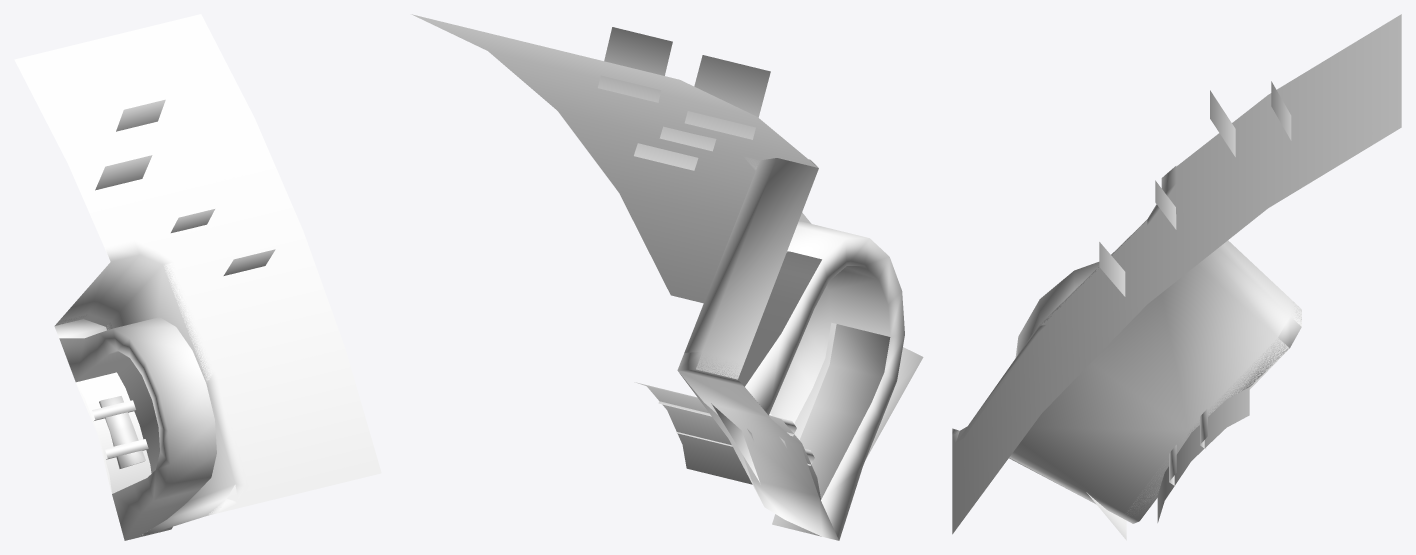
The model's file is grd_Ene_0.dae.
3 renders of one model, left to right at view 1: azimuth 30°, elevation 25°; view 2: azimuth 150°, elevation 25°; view 3: azimuth 270°, elevation 25°, orthographic. The views are drawn at different scales.
Parts seen in each view (by area): view 1: grd_Ene_0; view 2: grd_Ene_0; view 3: grd_Ene_0.
Part boxes in pixels (x1,y1,x2,y2): grd_Ene_0: (14,14,381,540); grd_Ene_0: (411,14,923,540); grd_Ene_0: (952,14,1401,540).
Size of the model in its own units: 128 by 262 by 214.
5 materials, 1 textured.
